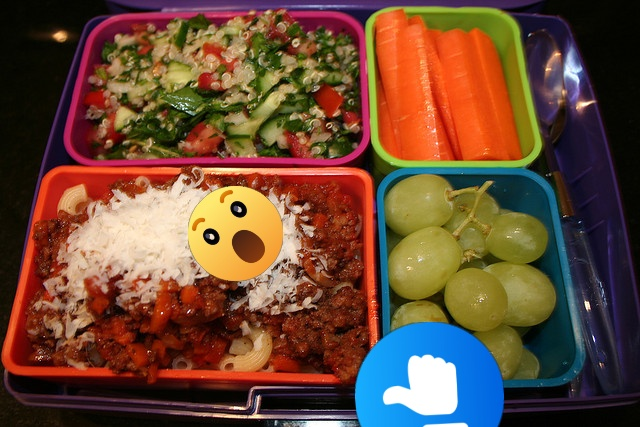like: (355, 322, 504, 427)
wow: (188, 186, 283, 281)
